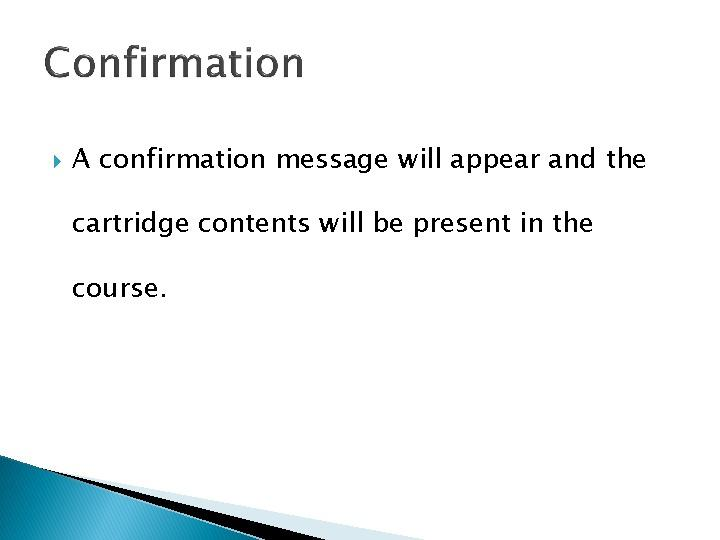paragraph: (62, 129, 680, 333)
title: (40, 32, 321, 96)
